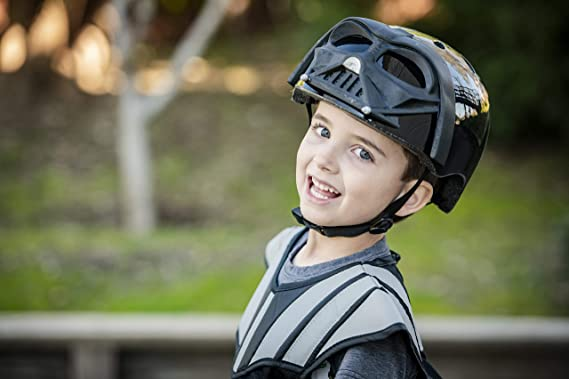helmet: (288, 16, 490, 238)
